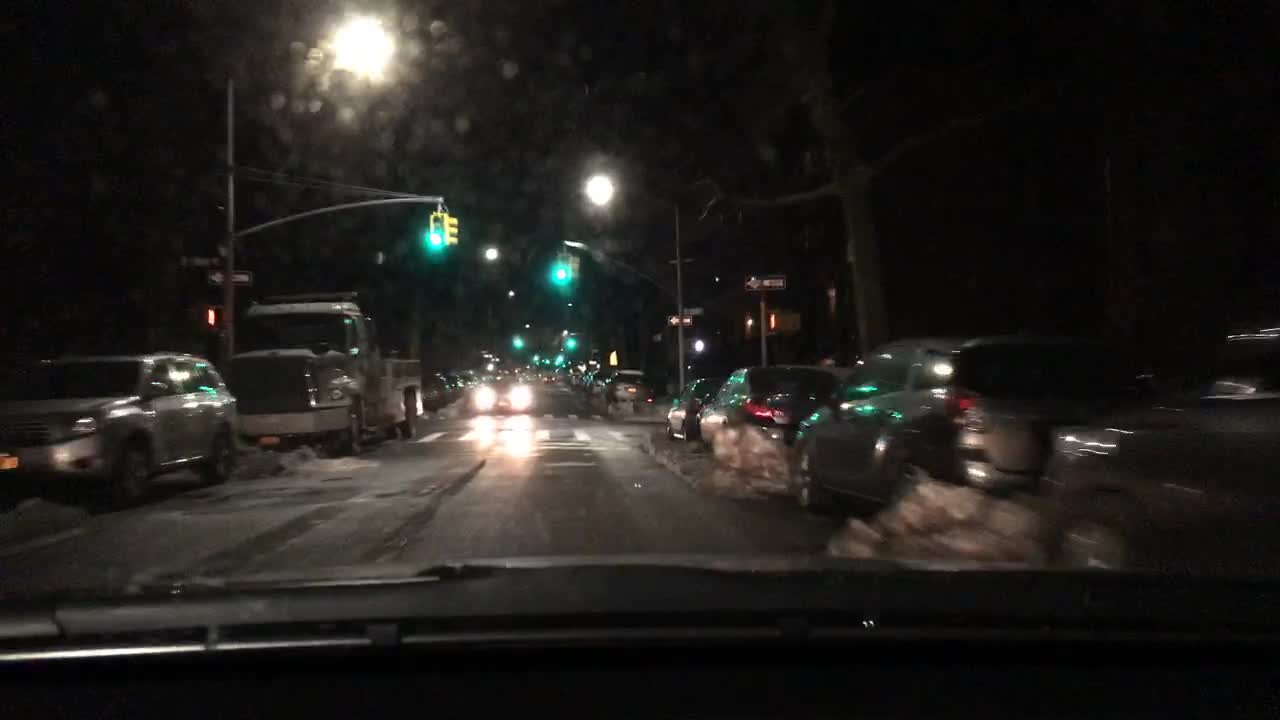car: (799, 339, 1110, 507), (1042, 329, 1278, 507), (0, 351, 236, 498), (697, 365, 839, 444), (666, 378, 725, 439), (473, 378, 531, 409), (606, 371, 653, 400), (421, 378, 446, 407), (587, 369, 603, 392), (442, 372, 458, 392), (458, 372, 474, 388), (543, 375, 557, 383)
traffic light: (430, 215, 444, 244), (444, 215, 456, 243), (573, 258, 580, 277), (769, 314, 776, 330), (557, 267, 564, 281), (208, 307, 213, 323)
traffic sign: (176, 256, 222, 267), (744, 275, 784, 287), (209, 272, 253, 282), (667, 316, 690, 325), (685, 308, 702, 315)
truck: (230, 292, 421, 453)
